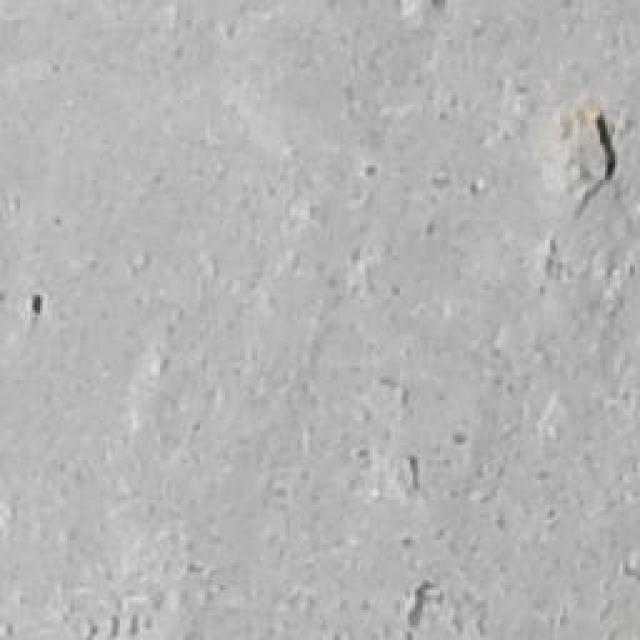concrete-crack: (600, 112, 620, 182)
